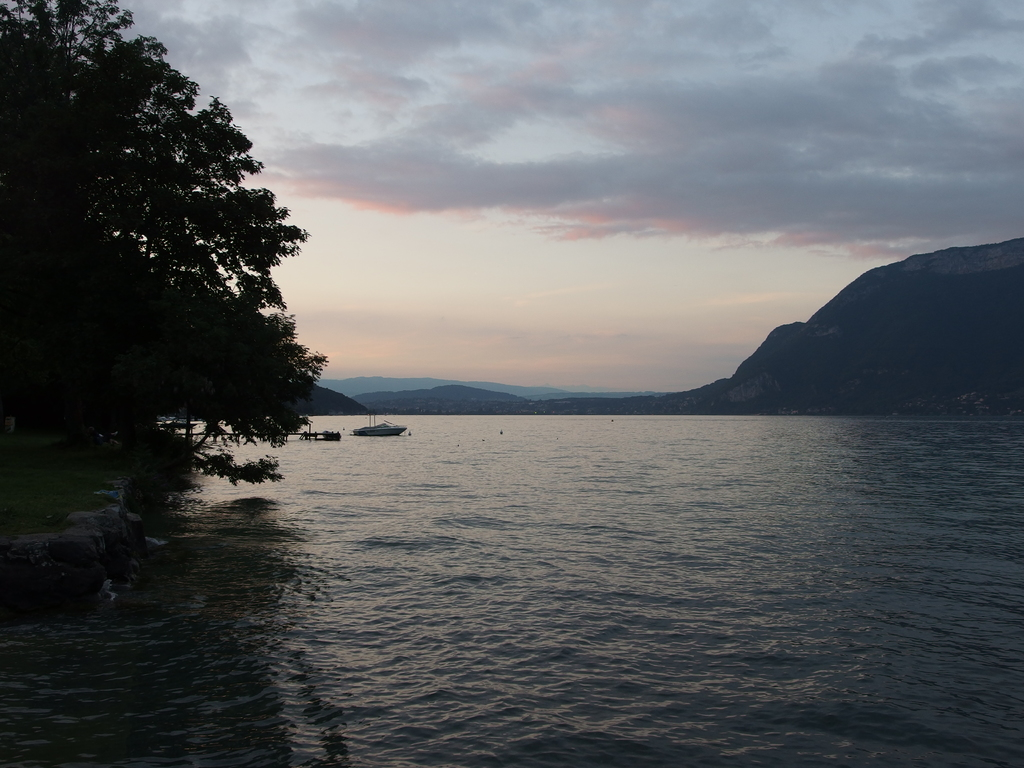Tree: (0, 0, 328, 495)
